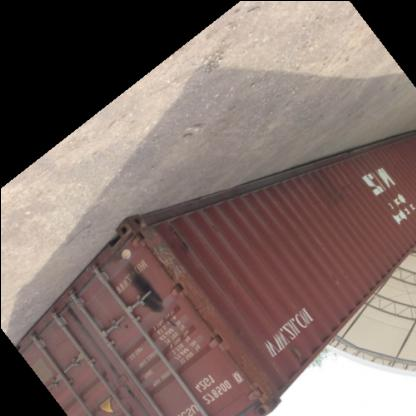Damage: (121, 263, 166, 323), (316, 168, 350, 219), (170, 221, 192, 256), (284, 342, 302, 366), (206, 221, 218, 238)
